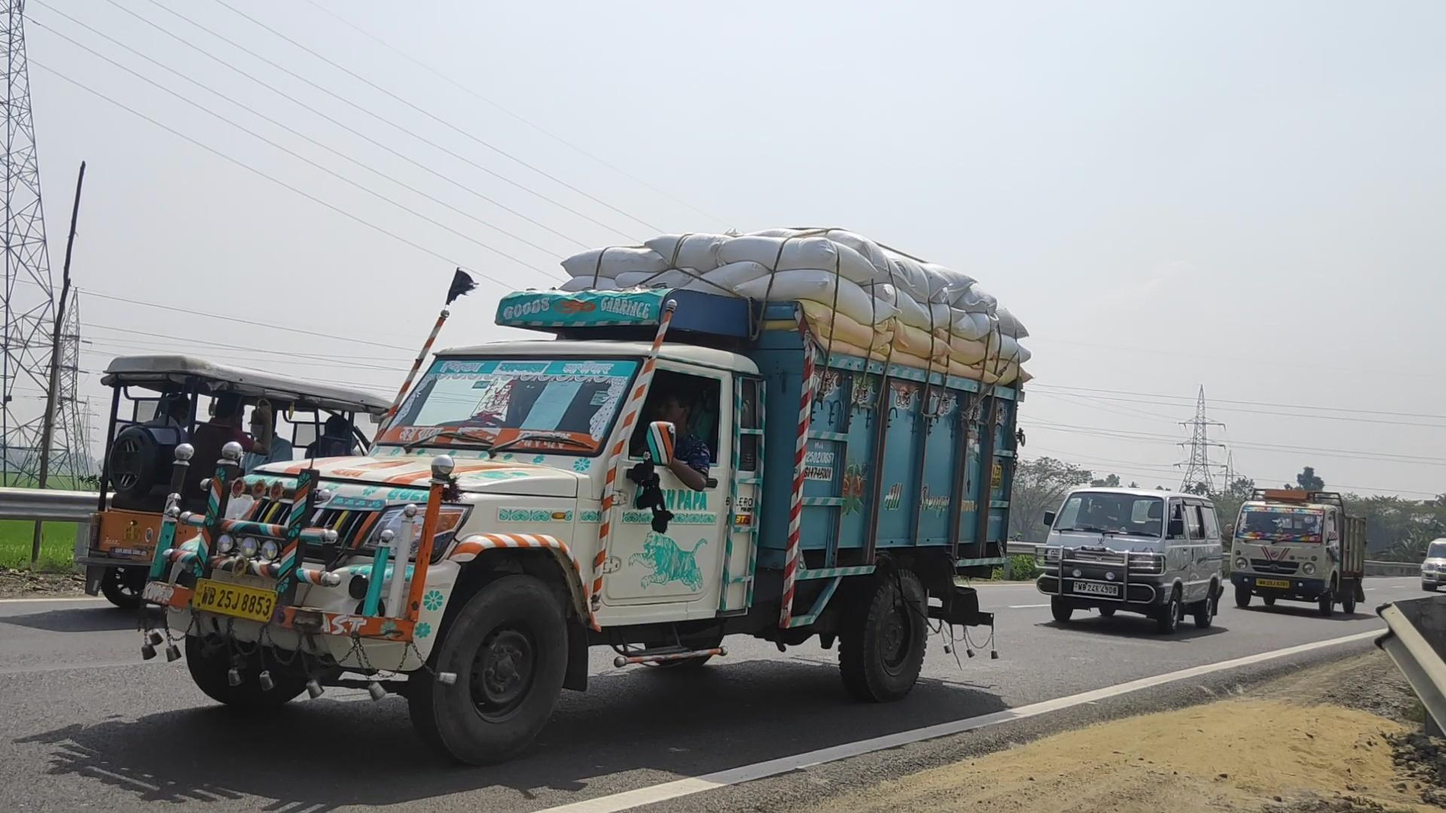Auto: (82, 354, 406, 616)
van: (144, 226, 1031, 766), (1033, 486, 1225, 635), (1228, 488, 1367, 616)
